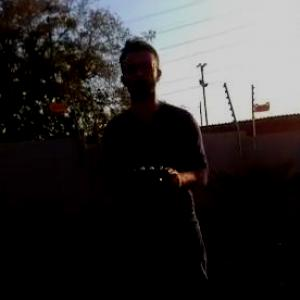follow: (98, 36, 224, 299)
